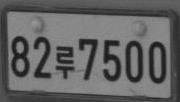0: (147, 40, 167, 83), (124, 39, 143, 83)
2: (32, 35, 51, 79)
5: (101, 39, 122, 82)
7: (77, 37, 98, 81)
8: (10, 35, 30, 77)
루: (54, 45, 74, 79)
